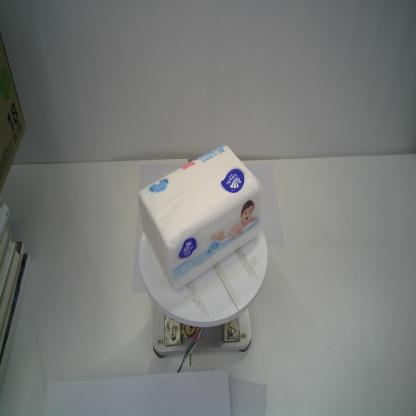Tissue: (136, 143, 263, 292)
